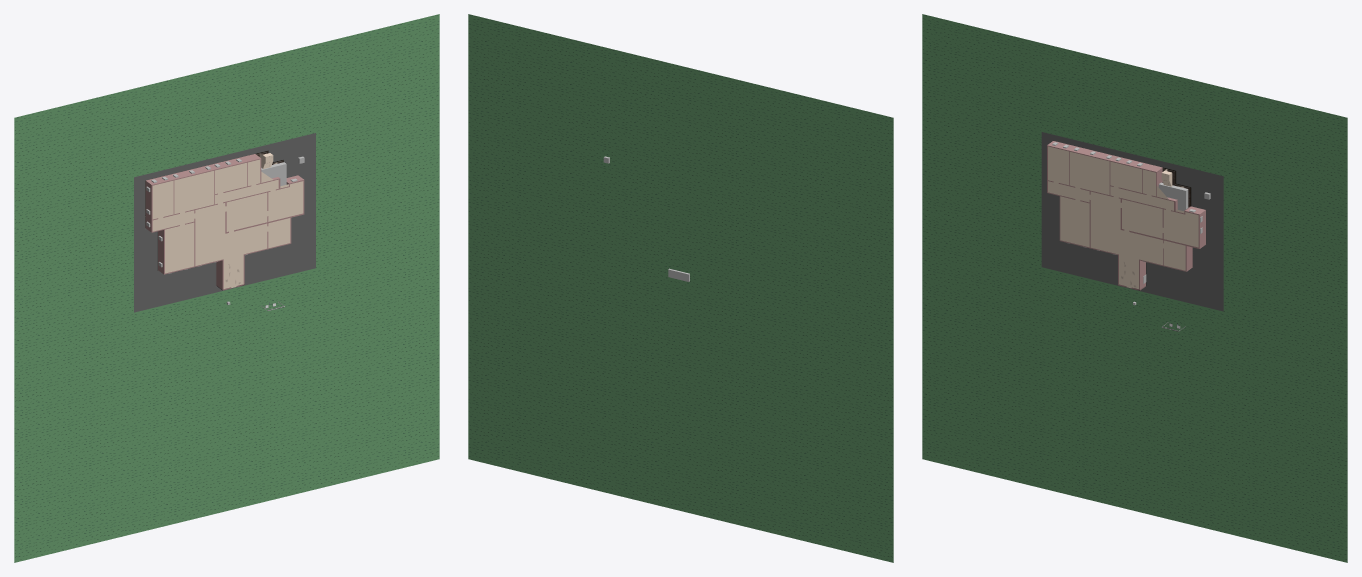
File: roomMVP.obj
3 views of the same model, side by side, from view 1: azimuth 30°, elevation 25°; view 2: azimuth 150°, elevation 25°; view 3: azimuth 330°, elevation 25° (orthographic).
Parts seen in each view (by area): view 1: S_Grass_Plane, S_Ceiling, S_RefFloor, S_Walls; view 2: S_Grass_Plane; view 3: S_Grass_Plane, S_Ceiling, S_RefFloor, S_Walls.
Boxes of the visible parts, box(x1,y1,x2,y2) form: S_Grass_Plane: box(14, 14, 439, 562); S_Ceiling: box(152, 159, 303, 288); S_RefFloor: box(134, 133, 315, 312); S_Walls: box(145, 154, 304, 290); S_Grass_Plane: box(468, 14, 893, 562); S_Grass_Plane: box(922, 14, 1347, 562); S_Ceiling: box(1048, 146, 1198, 289); S_RefFloor: box(1041, 132, 1223, 311); S_Walls: box(1047, 141, 1205, 290).
Bounding box in the file's own units: 78.92 × 78.92 × 2.79.
19 materials, 18 textured.
